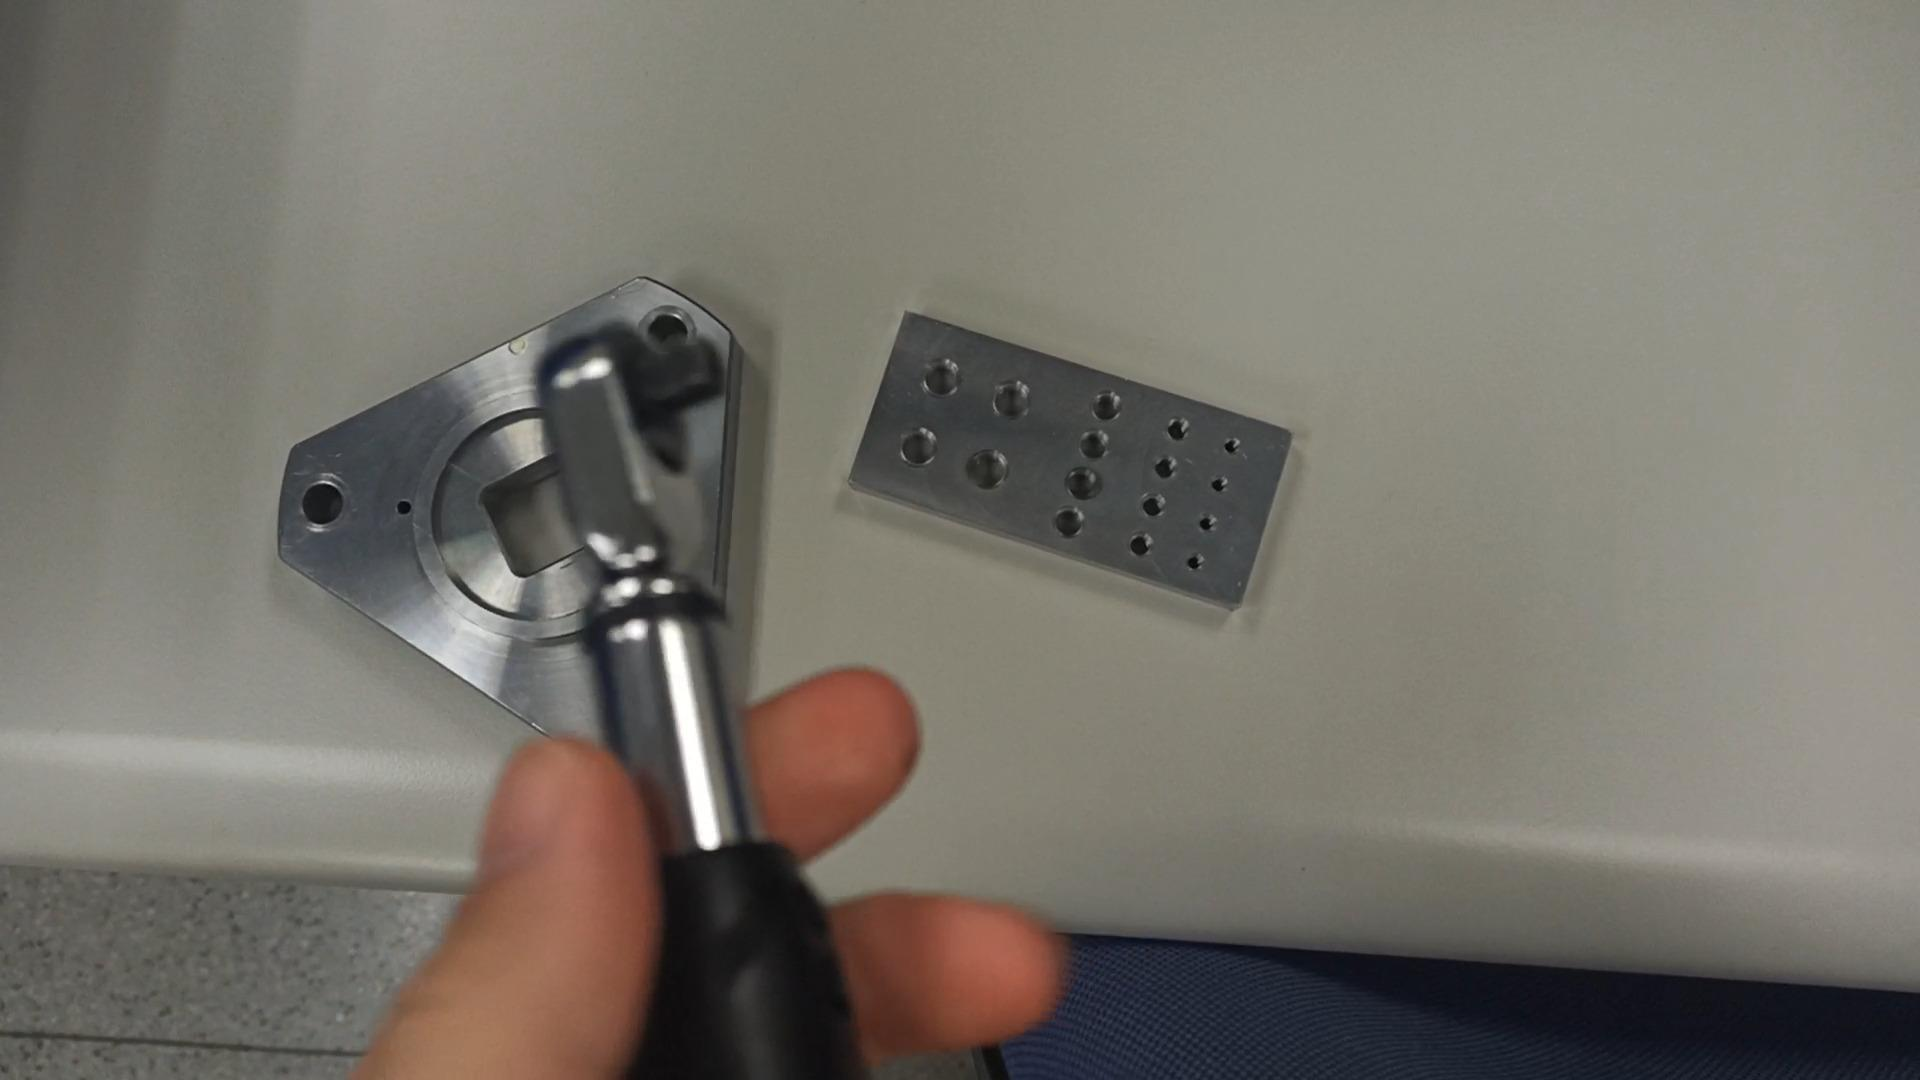hole: (298, 475, 353, 534), (964, 444, 1015, 496), (891, 423, 939, 471), (990, 376, 1035, 426), (919, 357, 964, 404), (647, 306, 692, 348), (1068, 468, 1110, 505), (1051, 506, 1089, 545), (1081, 429, 1120, 464), (1092, 389, 1129, 425), (1124, 529, 1156, 560), (1167, 413, 1199, 444), (1149, 452, 1180, 483), (1138, 493, 1168, 524), (1185, 550, 1211, 578), (1197, 512, 1222, 535), (1221, 436, 1245, 460), (1211, 477, 1233, 498)
